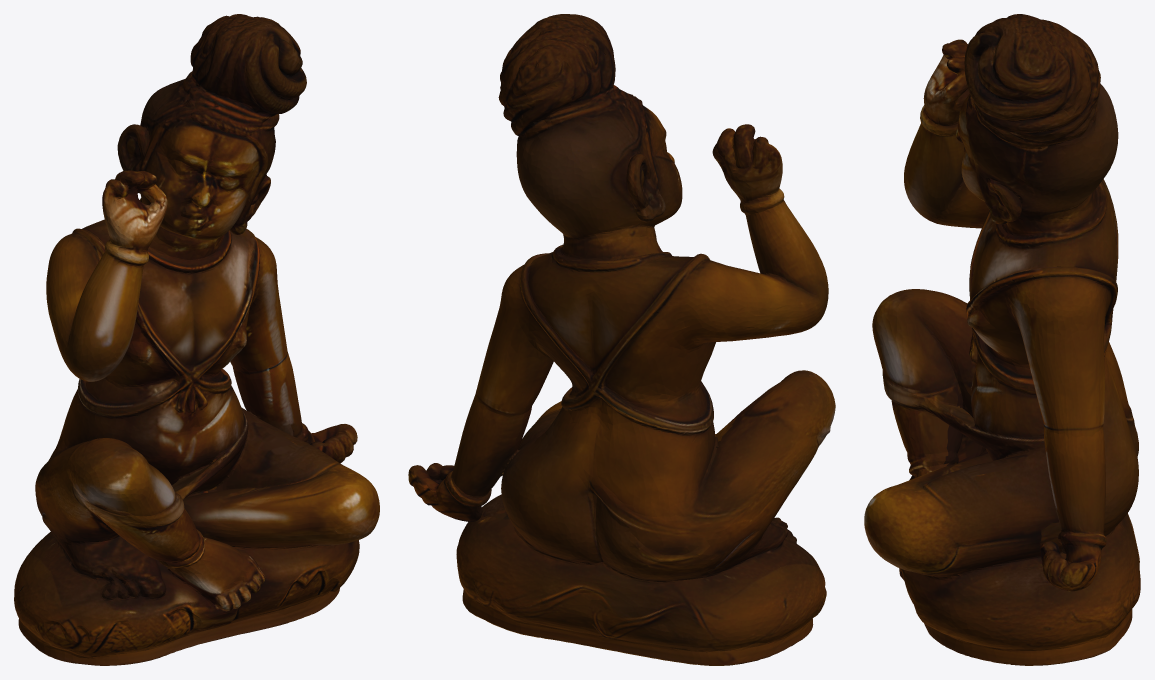
The picture shows the model from 3 angles, left to right: view 1: azimuth 30°, elevation 25°; view 2: azimuth 150°, elevation 25°; view 3: azimuth 270°, elevation 25°; orthographic projection. The views are drawn at different scales.
Visible parts, largest first — view 1: textured_mesh; view 2: textured_mesh; view 3: textured_mesh.
Part boxes in pixels (left/top/right/bottom): textured_mesh: left=14, top=14, right=379, bottom=665; textured_mesh: left=408, top=14, right=835, bottom=665; textured_mesh: left=864, top=14, right=1140, bottom=665.
Size of the model in its own units: 1.34 by 1.99 by 0.831.
Materials: 1 (1 with a texture image).
